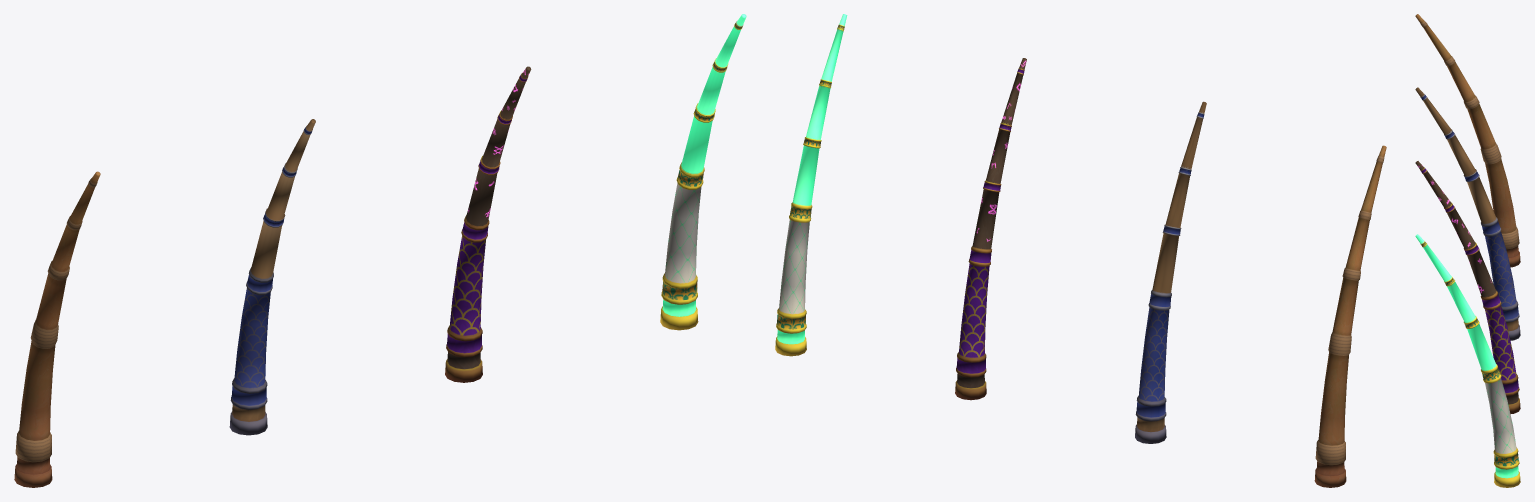
Rendered from fishing_rob_asset.fbx.
3 renders of one model, left to right at view 1: azimuth 30°, elevation 25°; view 2: azimuth 150°, elevation 25°; view 3: azimuth 270°, elevation 25°, orthographic. The views are drawn at different scales.
Visible parts, largest first — view 1: Cylinder, Cylinder.003, Cylinder.001, Cylinder.002; view 2: Cylinder, Cylinder.003, Cylinder.001, Cylinder.002; view 3: Cylinder.003, Cylinder, Cylinder.001, Cylinder.002.
Boxes of the visible parts, bbox=[...] form: Cylinder: bbox=[14, 171, 100, 487]; Cylinder.003: bbox=[660, 14, 746, 330]; Cylinder.001: bbox=[229, 119, 315, 435]; Cylinder.002: bbox=[445, 66, 531, 382]; Cylinder: bbox=[1314, 145, 1386, 487]; Cylinder.003: bbox=[775, 14, 847, 356]; Cylinder.001: bbox=[1135, 101, 1206, 443]; Cylinder.002: bbox=[955, 58, 1026, 400]; Cylinder.003: bbox=[1415, 234, 1520, 487]; Cylinder: bbox=[1415, 14, 1520, 267]; Cylinder.001: bbox=[1415, 87, 1520, 340]; Cylinder.002: bbox=[1415, 161, 1520, 413].
Size of the model in its own units: 315 by 158 by 60.56.
Materials: 1 (1 with a texture image).
